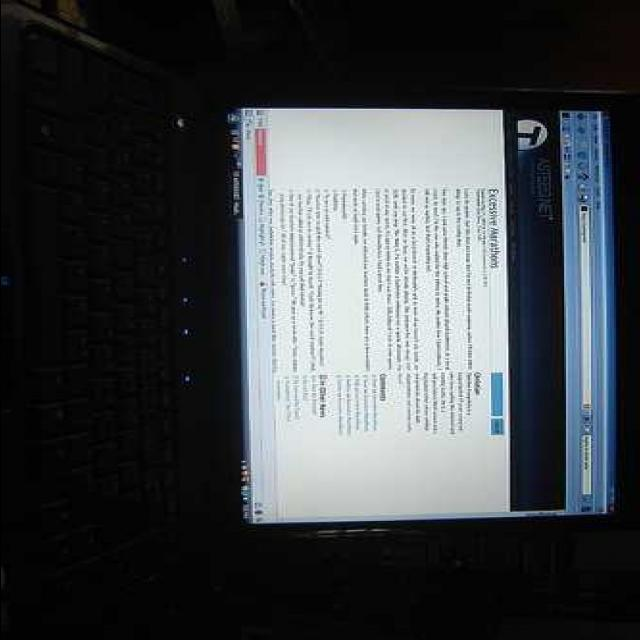laptop: (11, 101, 624, 528)
